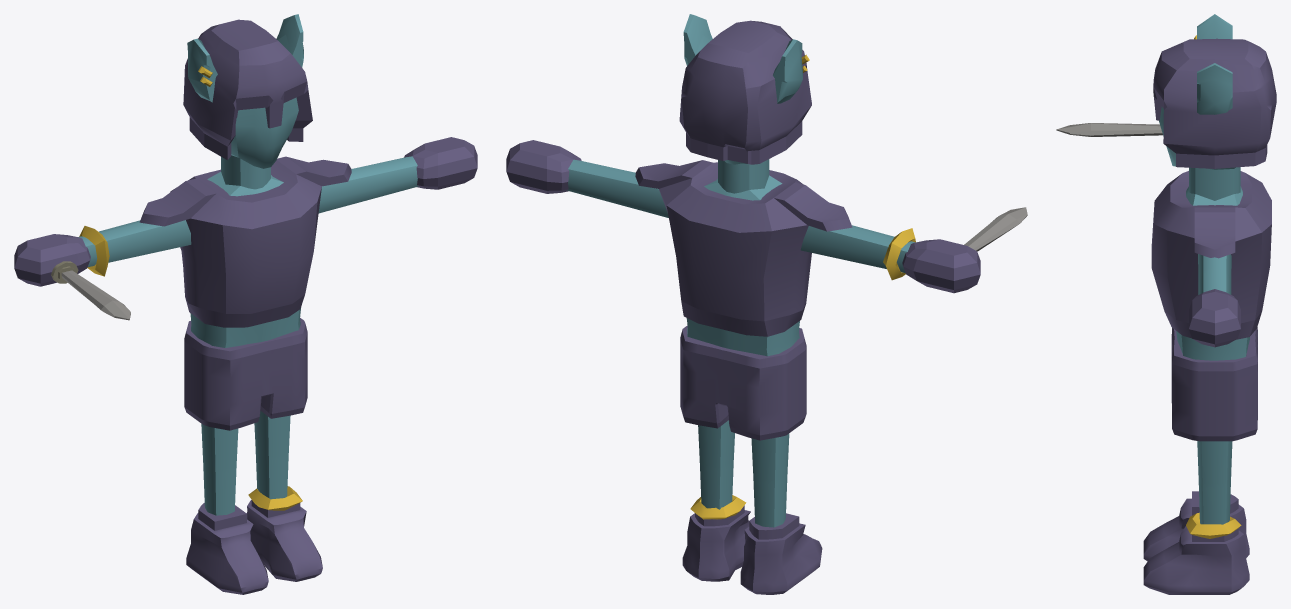
Rendered from blueGoblin.fbx.
3 renders of one model, left to right at view 1: azimuth 30°, elevation 25°; view 2: azimuth 150°, elevation 25°; view 3: azimuth 270°, elevation 25°, orthographic. The views are drawn at different scales.
Visible parts, largest first — view 1: chestplate, goblin_body, helmet, pants, boots, gloves, blade, bangle1, bangle; view 2: chestplate, goblin_body, helmet, pants, boots, gloves, blade, bangle1, bangle; view 3: chestplate, helmet, goblin_body, pants, boots, gloves, blade, bangle.
Part boxes in pixels (x1,y1,x2,y2): chestplate: (139,156,351,327); goblin_body: (78,14,418,515); helmet: (183,19,312,159); pants: (184,318,307,430); boots: (186,500,322,594); gloves: (14,137,477,286); blade: (61,270,130,320); bangle1: (79,226,109,276); bangle: (248,486,302,510); chestplate: (635,160,852,336); goblin_body: (567,14,915,527); helmet: (679,20,811,164); pants: (680,325,806,440); boots: (682,505,822,594); gloves: (506,140,980,293); blade: (964,207,1027,251); bangle1: (883,228,915,280); bangle: (690,495,746,519); chestplate: (1151,171,1271,339); helmet: (1153,38,1276,168); goblin_body: (1159,14,1249,524); pants: (1171,327,1257,441); boots: (1143,491,1249,594); gloves: (1189,289,1240,347); blade: (1056,123,1162,136); bangle: (1186,512,1241,538).
Bounding box in the file's own units: 141 × 156 × 58.47.
